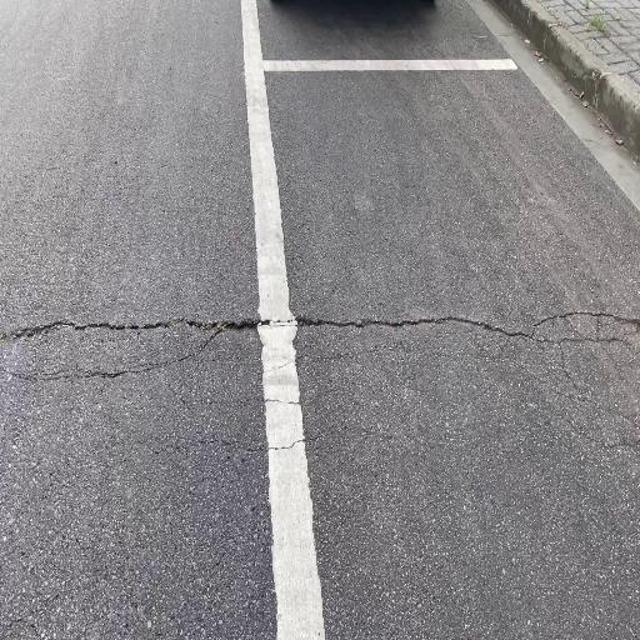Melintang: (0, 301, 640, 356)
